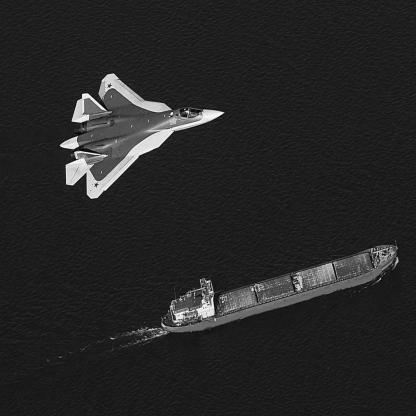Su57: (60, 74, 226, 200)
